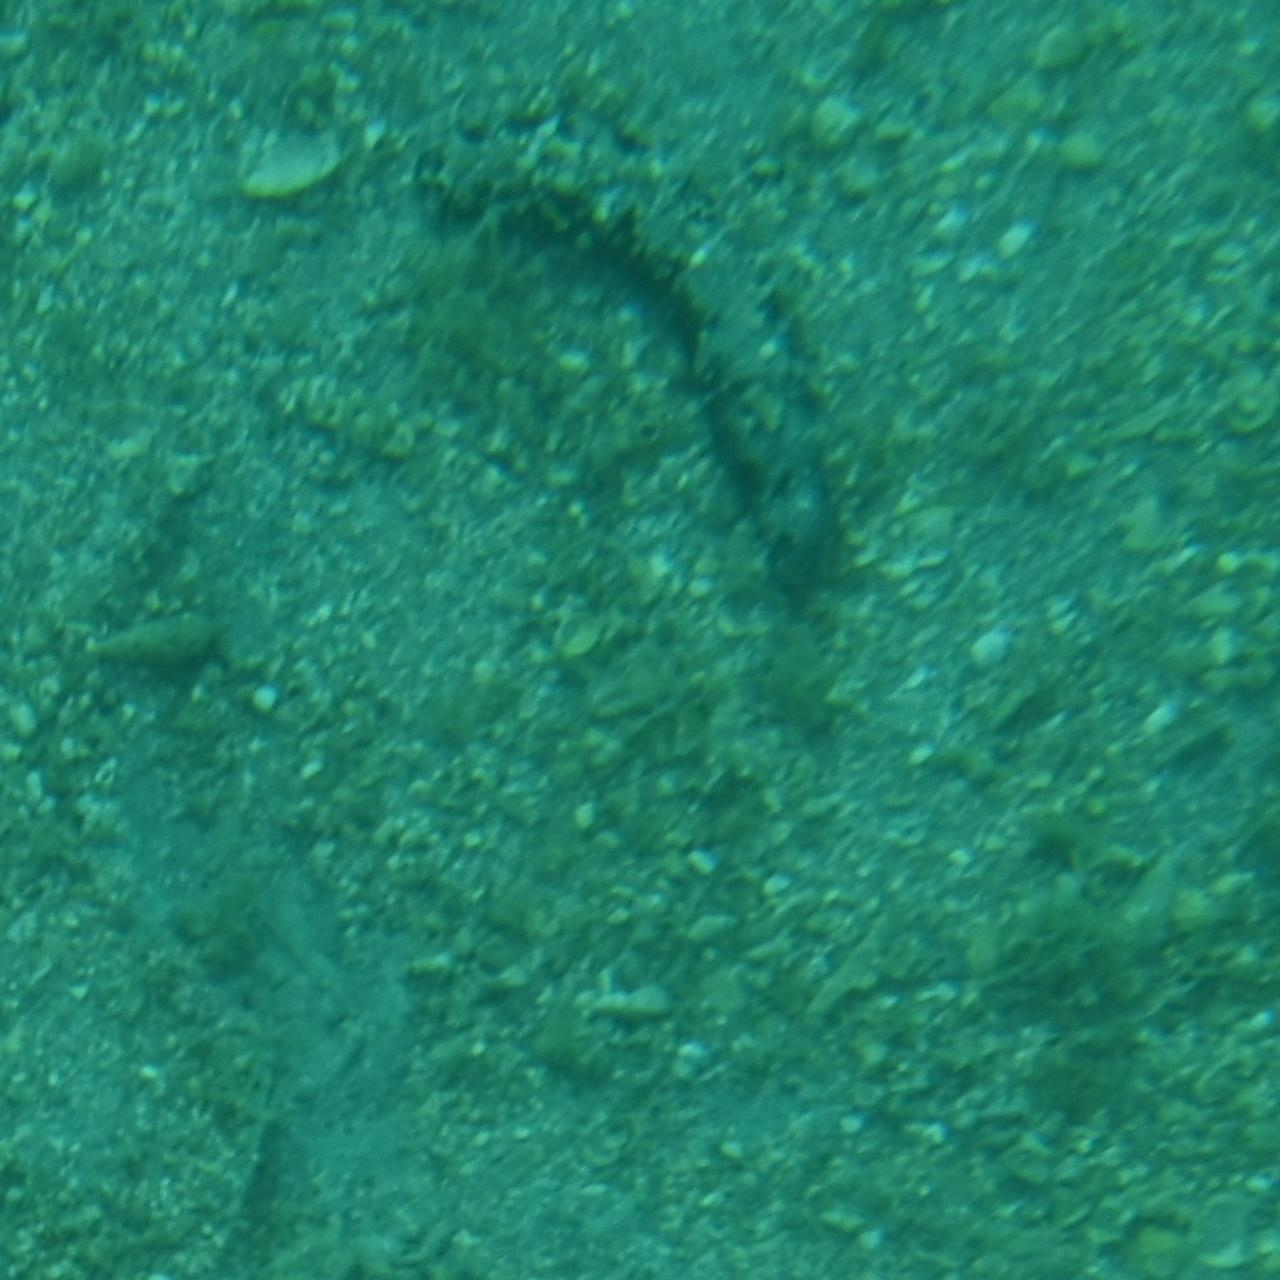Holothuria tubulosa: (416, 119, 864, 609)
